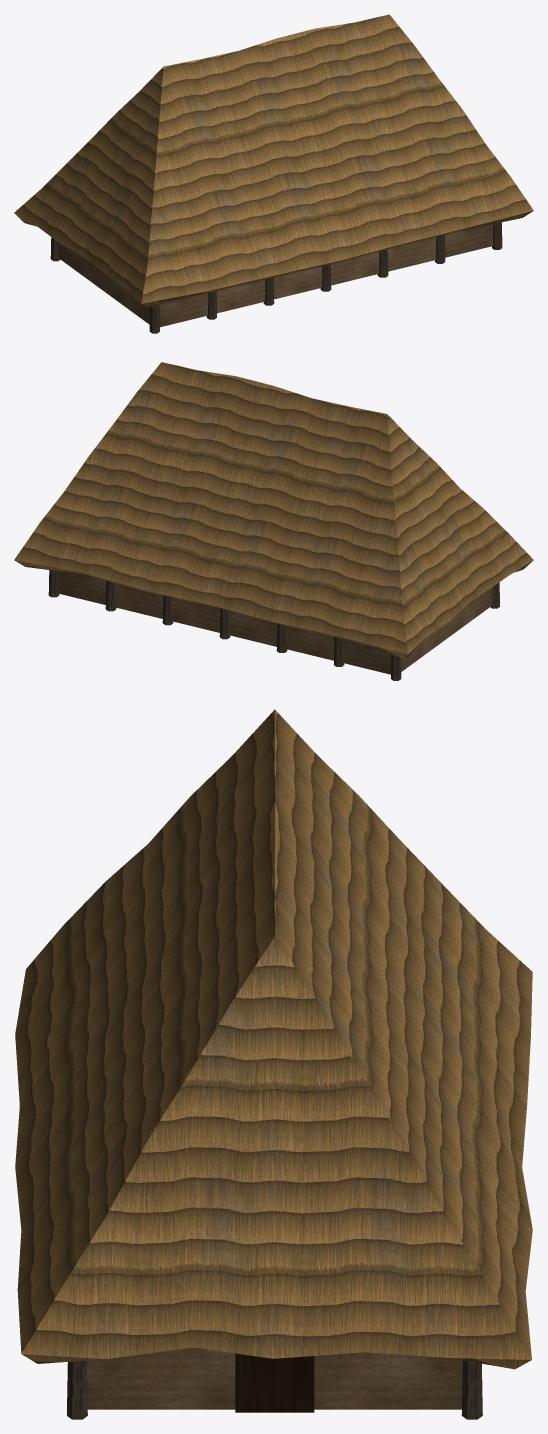
The model's file is casa_lunga_media.glb.
3 views of the same model, one above another, from view 1: azimuth 30°, elevation 25°; view 2: azimuth 150°, elevation 25°; view 3: azimuth 270°, elevation 25° (orthographic). The views are drawn at different scales.
Parts seen in each view (by area): view 1: casa_lunga_media; view 2: casa_lunga_media; view 3: casa_lunga_media.
Part boxes in pixels (x1,y1,x2,y2): casa_lunga_media: (14, 14, 533, 333); casa_lunga_media: (14, 362, 533, 680); casa_lunga_media: (15, 709, 532, 1419).
Bounding box in the file's own units: 13.82 × 7.23 × 7.86.
4 materials, 4 textured.
